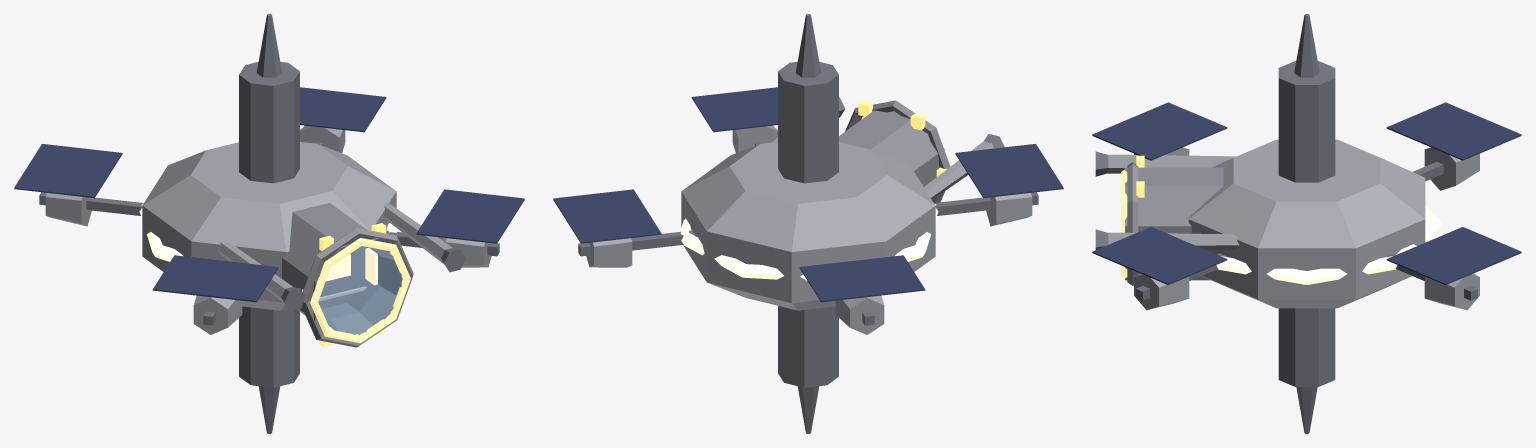
The model's file is relay.glb.
3 views of the same model, side by side, from view 1: azimuth 30°, elevation 25°; view 2: azimuth 150°, elevation 25°; view 3: azimuth 270°, elevation 25° (orthographic).
Visible parts, largest first — view 1: relay; view 2: relay; view 3: relay.
Part boxes in pixels (x1,y1,x2,y2): relay: (14,14,524,433); relay: (553,14,1063,433); relay: (1092,14,1521,433).
Size of the model in its own units: 3.35 by 3.6 by 3.35.
